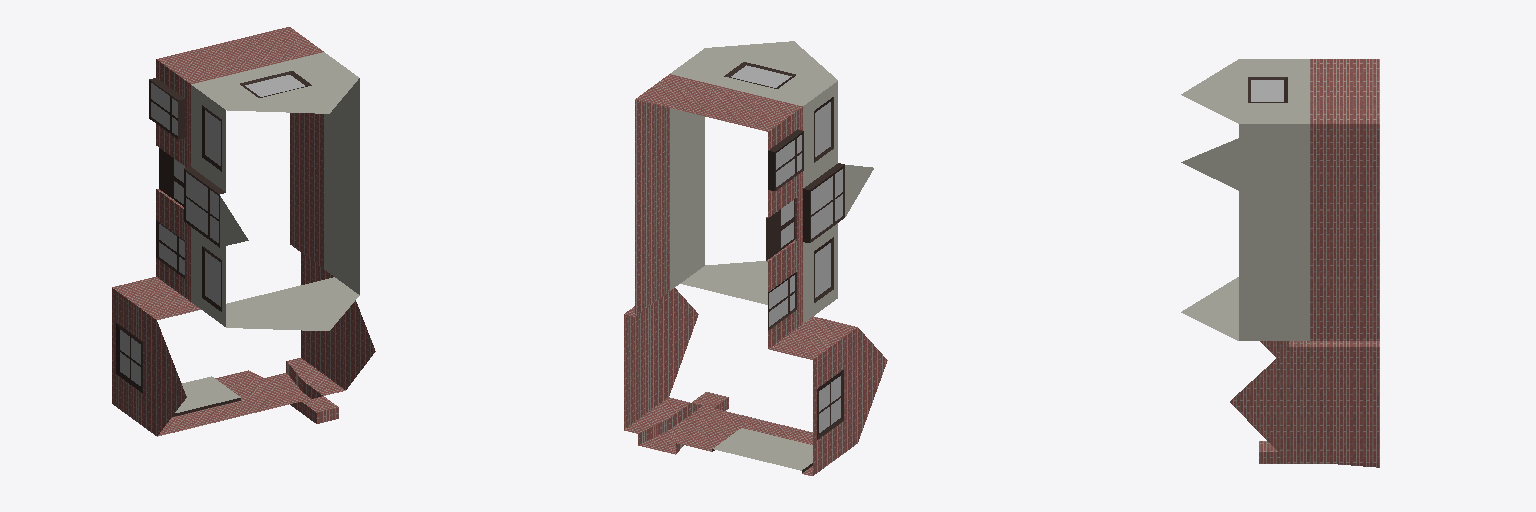
3 views of the same model, side by side, from view 1: azimuth 30°, elevation 25°; view 2: azimuth 150°, elevation 25°; view 3: azimuth 270°, elevation 25° (orthographic).
Visible parts, largest first — view 1: Material__36, Material__26, Material__28, Material__27; view 2: Material__36, Material__26, Material__28, Material__27; view 3: Material__36, Material__26, Material__28.
Boxes of the visible parts, box(x1,y1,x2,y2) form: Material__36: box(112, 27, 375, 436); Material__26: box(175, 52, 359, 412); Material__28: box(120, 75, 304, 385); Material__27: box(116, 71, 311, 416); Material__36: box(624, 74, 887, 475); Material__26: box(670, 41, 873, 470); Material__28: box(731, 65, 842, 432); Material__27: box(712, 62, 844, 472); Material__36: box(1230, 59, 1379, 467); Material__26: box(1181, 59, 1309, 340); Material__28: box(1251, 80, 1283, 101).
Size of the model in its own units: 84.27 by 147 by 76.91.
6 materials, 1 textured.